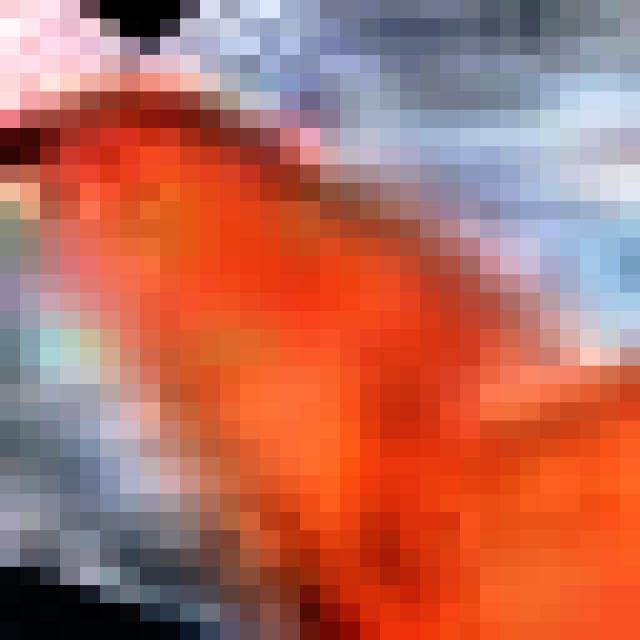arms: (0, 0, 640, 219)
